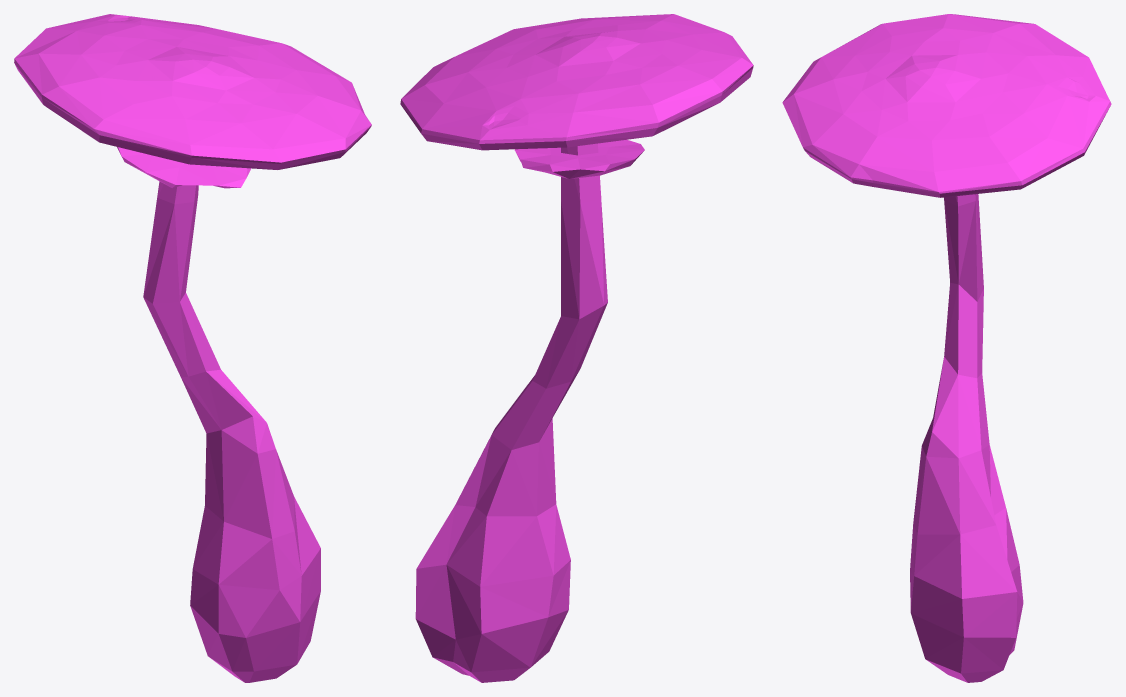
File: SM_Mushroom_Slim_Big_G_Fantasy.fbx
3 renders of one model, left to right at view 1: azimuth 30°, elevation 25°; view 2: azimuth 150°, elevation 25°; view 3: azimuth 270°, elevation 25°, orthographic. The views are drawn at different scales.
Parts seen in each view (by area): view 1: SM_Mushroom_Slim_Big_G_Fantasy; view 2: SM_Mushroom_Slim_Big_G_Fantasy; view 3: SM_Mushroom_Slim_Big_G_Fantasy.
Part boxes in pixels (x1,y1,x2,y2): SM_Mushroom_Slim_Big_G_Fantasy: [14, 14, 371, 682]; SM_Mushroom_Slim_Big_G_Fantasy: [400, 14, 753, 682]; SM_Mushroom_Slim_Big_G_Fantasy: [782, 14, 1111, 682].
Size of the model in its own units: 2.78 by 5.7 by 2.98.
